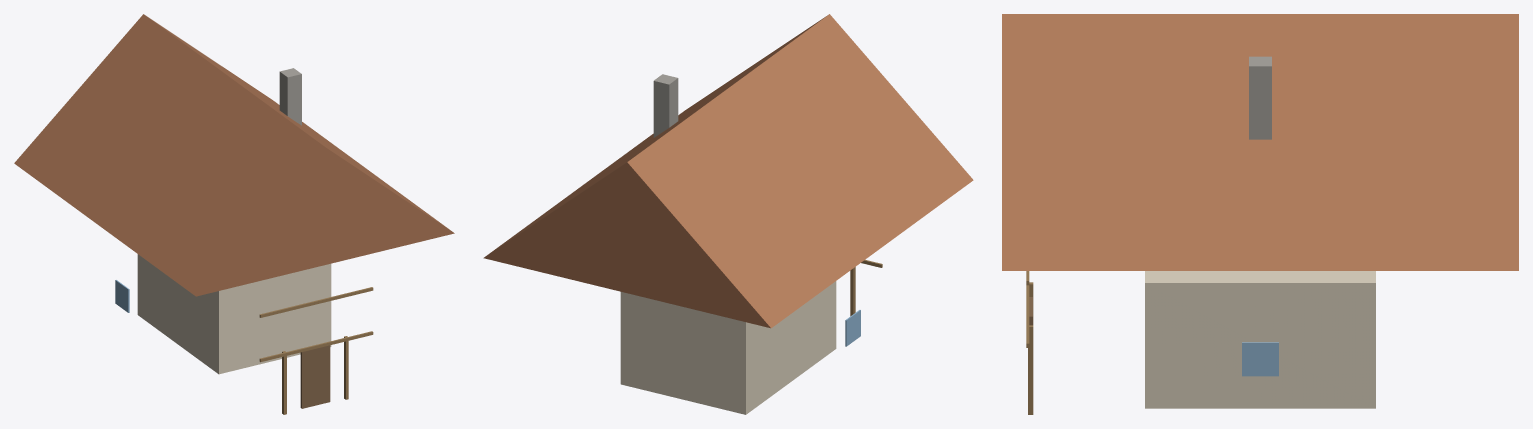
Rendered from medieval_house_1.glb.
3 views of the same model, side by side, from view 1: azimuth 30°, elevation 25°; view 2: azimuth 150°, elevation 25°; view 3: azimuth 270°, elevation 25° (orthographic). The views are drawn at different scales.
Visible parts, largest first — view 1: medieval_house_1_roof, medieval_house_1_walls, medieval_house_1_door, medieval_house_1_chimney, medieval_house_1_beam.001, medieval_house_1_beam; view 2: medieval_house_1_roof, medieval_house_1_walls, medieval_house_1_chimney, medieval_house_1_window; view 3: medieval_house_1_roof, medieval_house_1_walls, medieval_house_1_chimney, medieval_house_1_window.001, medieval_house_1_door_frame.001.
Part boxes in pixels (bbox=[...]): medieval_house_1_roof: bbox=[14, 14, 454, 296]; medieval_house_1_walls: bbox=[137, 254, 331, 374]; medieval_house_1_door: bbox=[300, 345, 330, 408]; medieval_house_1_chimney: bbox=[279, 68, 301, 125]; medieval_house_1_beam.001: bbox=[259, 287, 373, 317]; medieval_house_1_beam: bbox=[259, 331, 373, 362]; medieval_house_1_roof: bbox=[483, 14, 973, 328]; medieval_house_1_walls: bbox=[620, 281, 836, 414]; medieval_house_1_chimney: bbox=[653, 74, 678, 137]; medieval_house_1_window: bbox=[845, 310, 860, 346]; medieval_house_1_roof: bbox=[1002, 14, 1518, 270]; medieval_house_1_walls: bbox=[1145, 271, 1375, 408]; medieval_house_1_chimney: bbox=[1249, 56, 1271, 139]; medieval_house_1_window.001: bbox=[1242, 342, 1278, 376]; medieval_house_1_door_frame.001: bbox=[1028, 325, 1033, 414].
Bounding box in the file's own units: 4.6 × 4.52 × 5.6.
